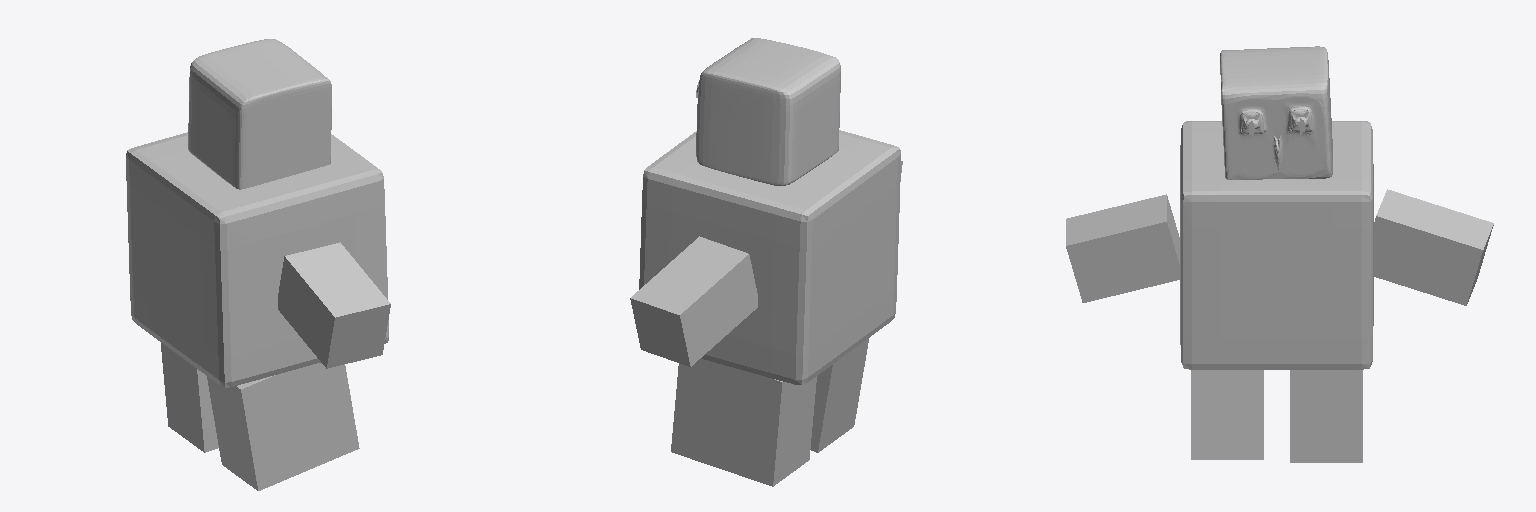
3 renders of one model, left to right at view 1: azimuth 30°, elevation 25°; view 2: azimuth 150°, elevation 25°; view 3: azimuth 270°, elevation 25°, orthographic.
Parts seen in each view (by area): view 1: Cube_Cube.001, Cube.001_Cube.002, Cube.002_Cube.003, Cube.005_Cube.007, Cube.003_Cube.004; view 2: Cube_Cube.001, Cube.001_Cube.002, Cube.003_Cube.004, Cube.004_Cube.005, Cube.002_Cube.003; view 3: Cube_Cube.001, Cube.001_Cube.002, Cube.004_Cube.005, Cube.005_Cube.007, Cube.003_Cube.004, Cube.002_Cube.003.
Boxes of the visible parts, x1,y1,x2,y2 form: Cube_Cube.001: [126, 132, 388, 387]; Cube.001_Cube.002: [188, 39, 331, 189]; Cube.002_Cube.003: [207, 363, 359, 490]; Cube.005_Cube.007: [278, 242, 390, 368]; Cube.003_Cube.004: [161, 343, 218, 452]; Cube_Cube.001: [639, 130, 900, 384]; Cube.001_Cube.002: [696, 38, 840, 185]; Cube.003_Cube.004: [671, 359, 816, 486]; Cube.004_Cube.005: [630, 236, 757, 366]; Cube.002_Cube.003: [810, 338, 868, 452]; Cube_Cube.001: [1180, 121, 1373, 369]; Cube.001_Cube.002: [1220, 46, 1332, 179]; Cube.004_Cube.005: [1374, 189, 1493, 305]; Cube.005_Cube.007: [1066, 194, 1179, 302]; Cube.003_Cube.004: [1290, 370, 1362, 462]; Cube.002_Cube.003: [1191, 370, 1263, 459].
Bounding box in the file's own units: 1.5 × 3.21 × 3.23.